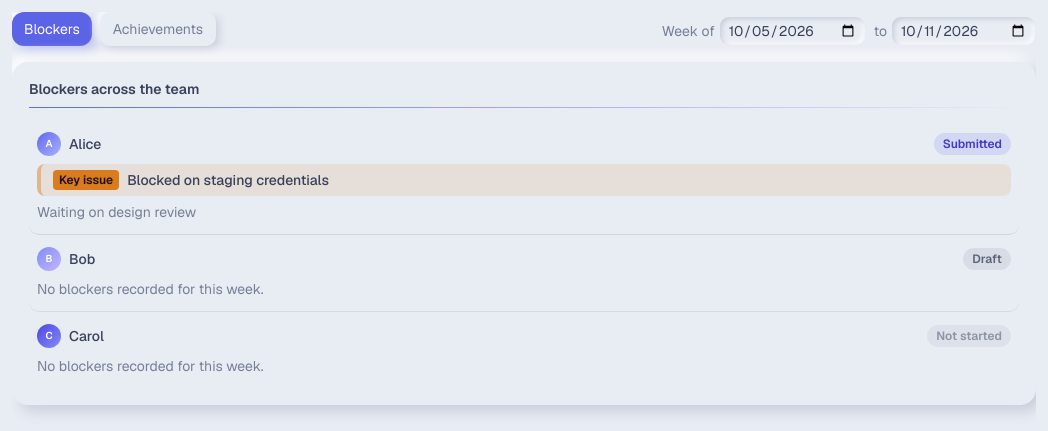
SectionComparison › requests blockers by default and switches to achievements with the right section param
The width and height of the screenshot is (1048, 431).
Expected: the text "Blocked on staging credentials" is shown, [127,170,329,190]
Click the button "Achievements": (158, 29) [100,12,216,46]
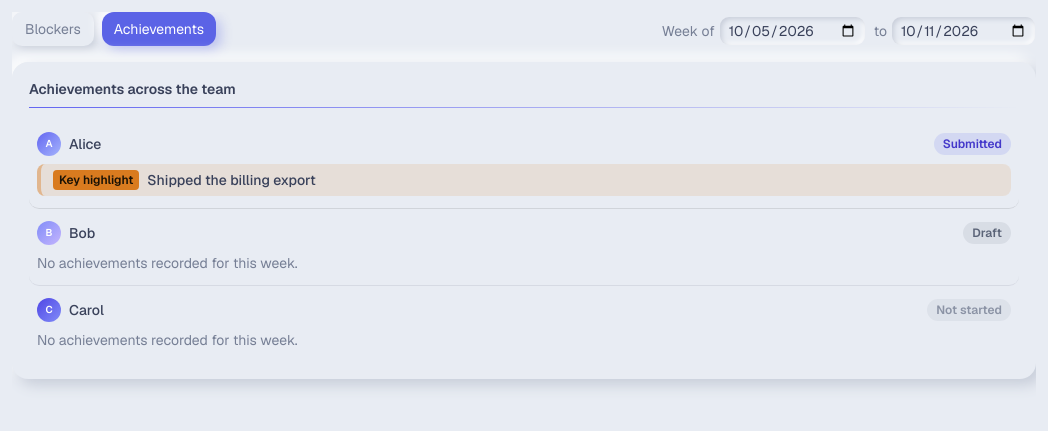
Expected: the text "Shipped the billing export" is shown, [147,170,316,190]
Expected: the text "Blocked on staging credentials" is gone
